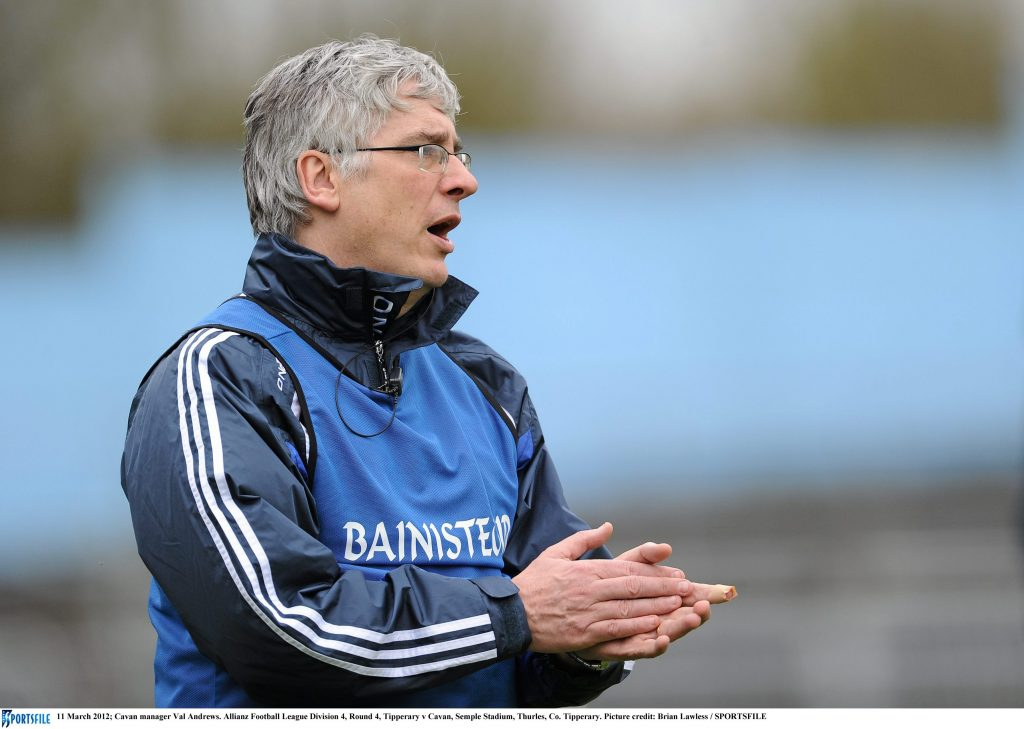player: (171, 33, 655, 707)
